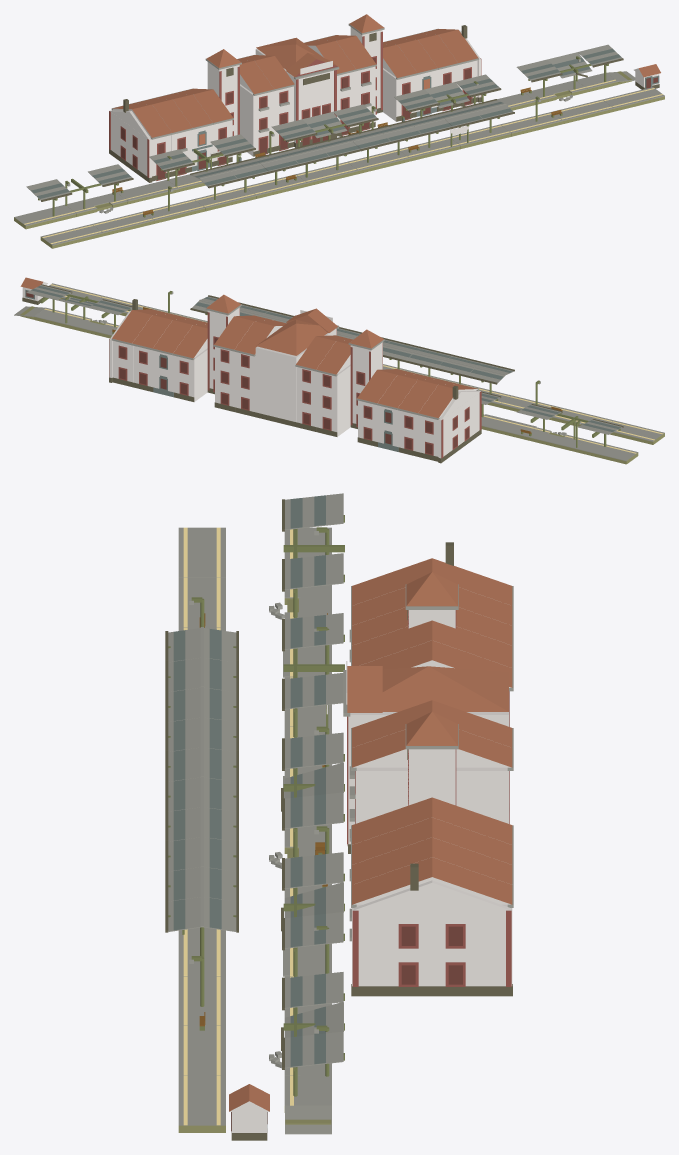
The model's file is SM_EstacionCastellon_v1_LOD1.fbx.
3 views of the same model, one above another, from view 1: azimuth 30°, elevation 25°; view 2: azimuth 150°, elevation 25°; view 3: azimuth 270°, elevation 25° (orthographic). The views are drawn at different scales.
Parts seen in each view (by area): view 1: SM_bloques.estacion_castellon_v1_LOD1; view 2: SM_bloques.estacion_castellon_v1_LOD1; view 3: SM_bloques.estacion_castellon_v1_LOD1.
Part boxes in pixels (x1,y1,x2,y2): SM_bloques.estacion_castellon_v1_LOD1: (14,14,664,248); SM_bloques.estacion_castellon_v1_LOD1: (14,277,664,464); SM_bloques.estacion_castellon_v1_LOD1: (165,493,513,1140).
Bounding box in the file's own units: 122 × 18.15 × 29.52.
